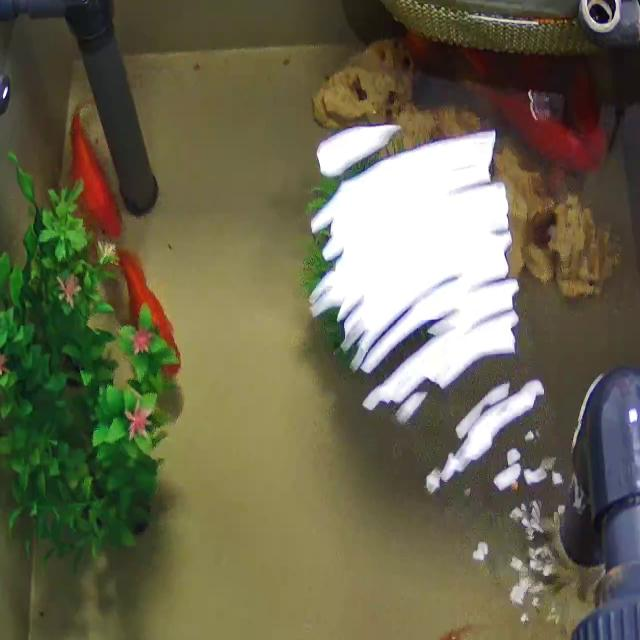fish: (417, 39, 611, 172), (116, 249, 179, 379), (66, 114, 123, 241), (403, 32, 512, 86)
